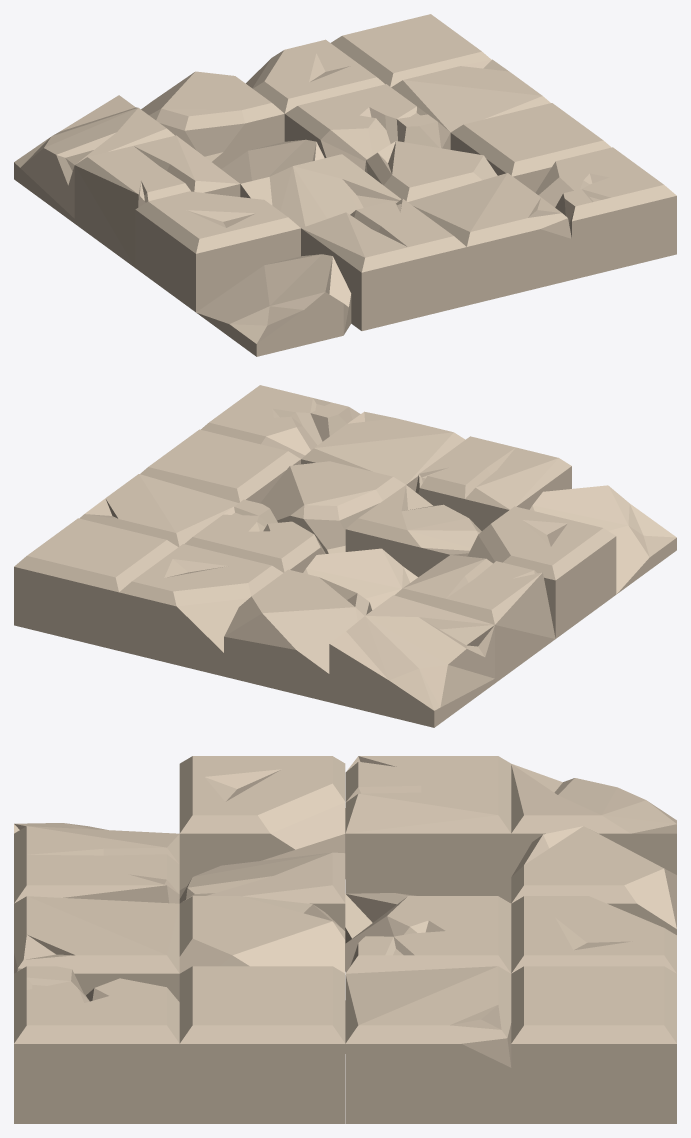
The model's file is Floor_001.fbx.
The picture shows the model from 3 angles, top to bottom: view 1: azimuth 30°, elevation 25°; view 2: azimuth 150°, elevation 25°; view 3: azimuth 270°, elevation 25°; orthographic projection. The views are drawn at different scales.
Visible parts, largest first — view 1: Floor_001; view 2: Floor_001; view 3: Floor_001.
Part boxes in pixels (x1,y1,x2,y2): Floor_001: [14, 14, 676, 356]; Floor_001: [14, 385, 676, 727]; Floor_001: [14, 756, 676, 1123].
Size of the model in its own units: 3 by 0.465 by 3.
